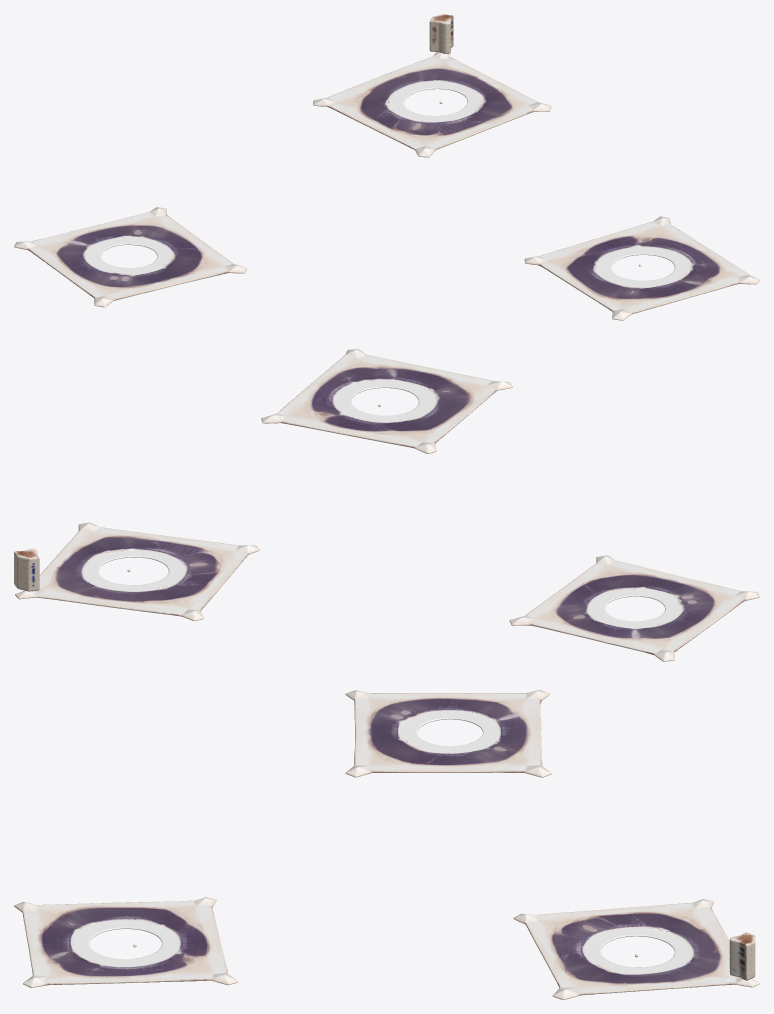
The picture shows the model from 3 angles, top to bottom: view 1: azimuth 30°, elevation 25°; view 2: azimuth 150°, elevation 25°; view 3: azimuth 270°, elevation 25°; orthographic projection. The views are drawn at different scales.
Parts seen in each view (by area): view 1: world; view 2: world; view 3: world.
Boxes of the visible parts, x1,y1,x2,y2 form: world: [14, 14, 759, 320]; world: [14, 349, 759, 661]; world: [14, 690, 759, 999].
Bounding box in the file's own units: 0.9734 × 0.0668 × 0.9923.
Materials: 1 (1 with a texture image).
